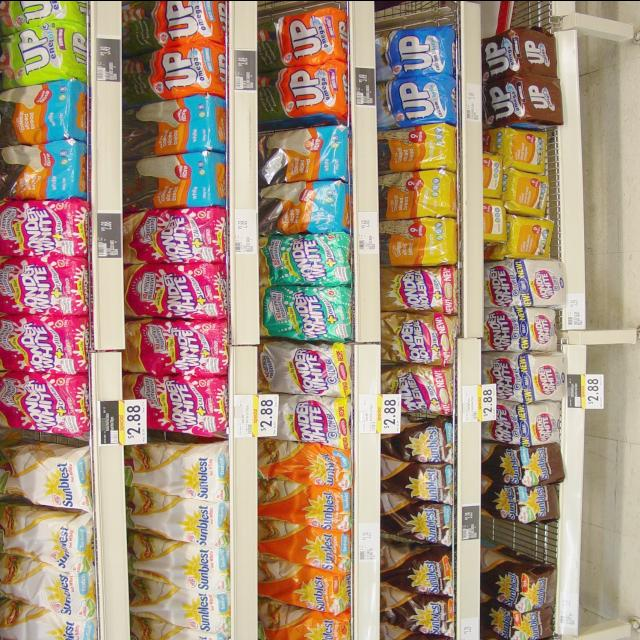empty_space: (483, 526, 553, 552)
